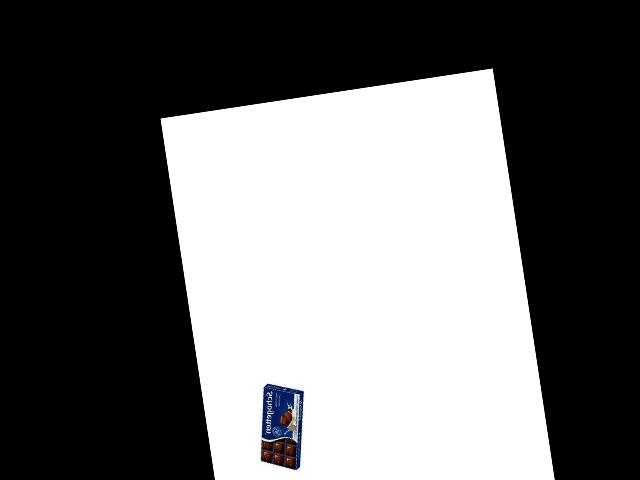chocolate: (249, 378, 308, 476)
